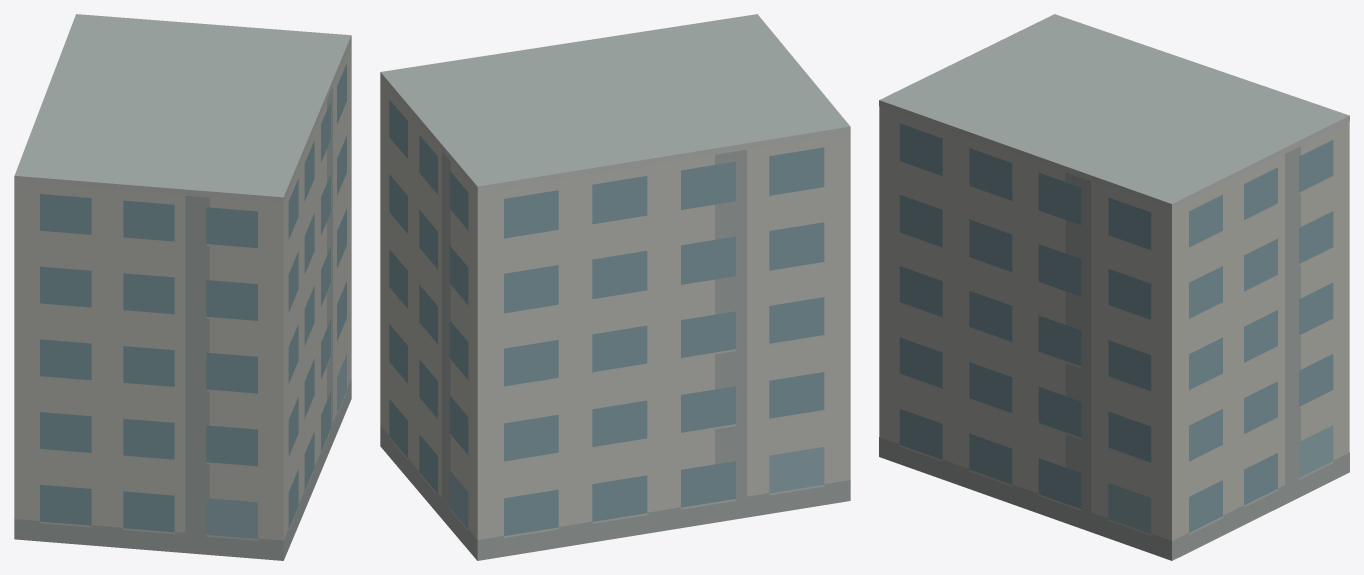
Rendered from survey-upis-32933982.glb.
The picture shows the model from 3 angles, left to right: view 1: azimuth 30°, elevation 25°; view 2: azimuth 150°, elevation 25°; view 3: azimuth 270°, elevation 25°; orthographic projection. The views are drawn at different scales.
Parts seen in each view (by area): view 1: survey-upis-32933982.tmp; view 2: survey-upis-32933982.tmp; view 3: survey-upis-32933982.tmp.
Part boxes in pixels (x1,y1,x2,y2): survey-upis-32933982.tmp: (14, 14, 351, 560); survey-upis-32933982.tmp: (380, 14, 850, 560); survey-upis-32933982.tmp: (879, 14, 1349, 560).
Size of the model in its own units: 16.29 by 14.25 by 17.04.
